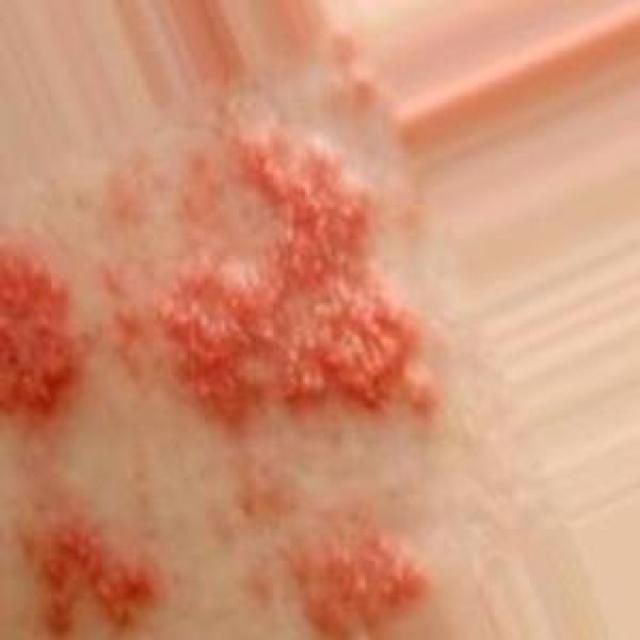Shingles: (149, 113, 420, 431), (279, 524, 426, 638), (14, 515, 152, 633), (0, 239, 79, 426)
